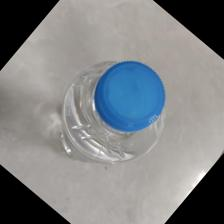Lavie: (55, 56, 174, 170)
